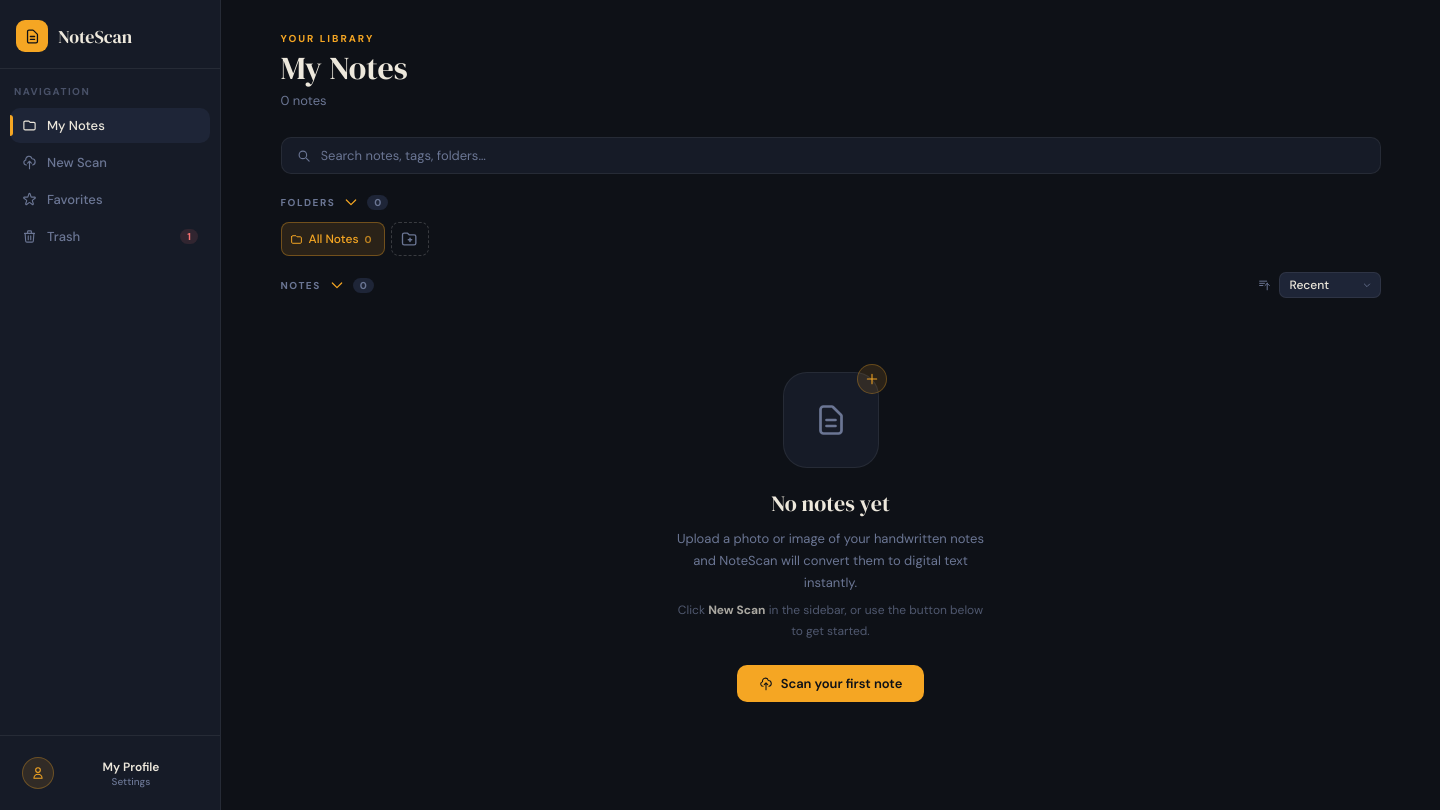
Test: Dashboard Integration › Trash ↔ Notes › restoring a note removes it from Trash and returns it to Notes
Click the button "Trash 1" at (110,236), box x1=10 y1=219 x2=210 y2=254
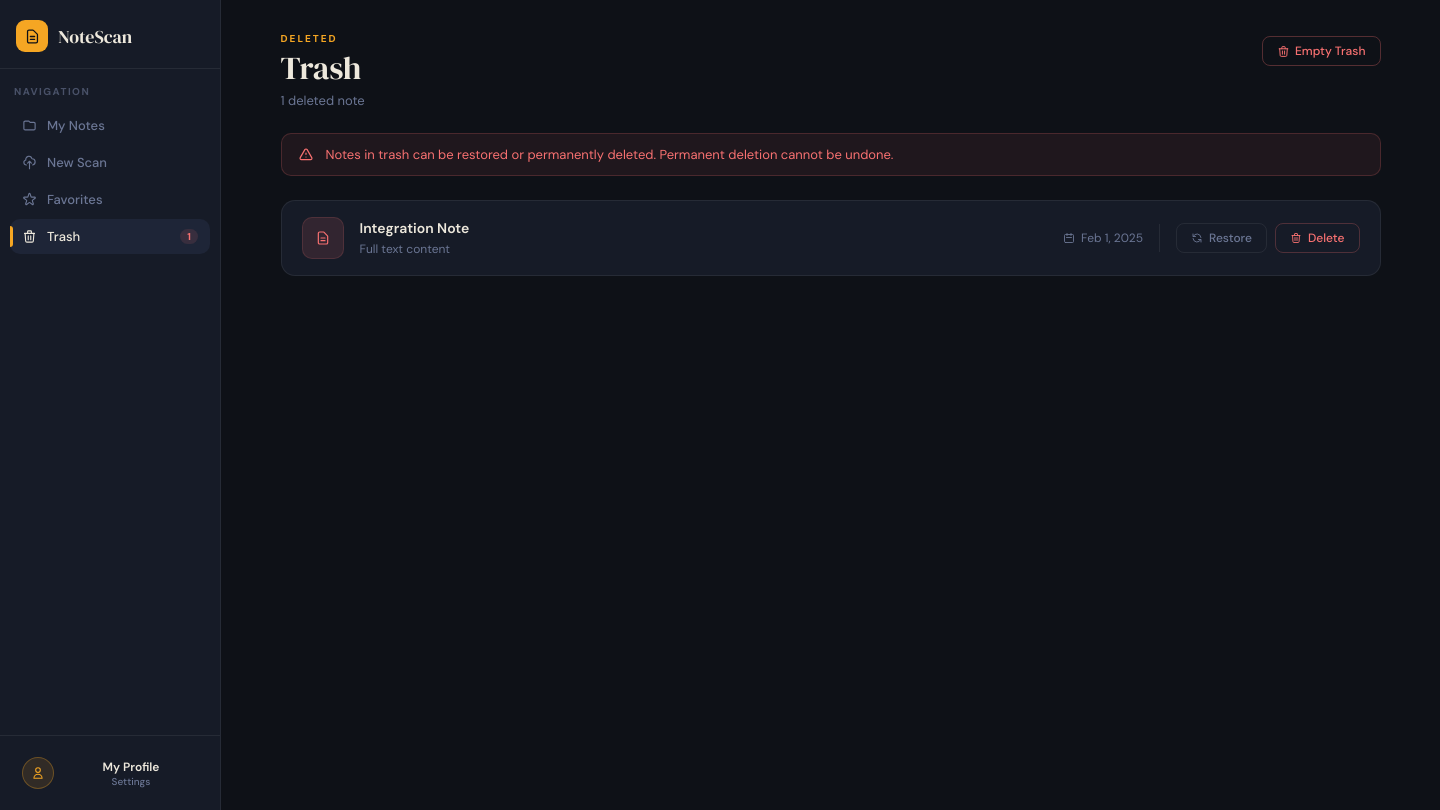
expect the text "Integration Note" is shown: met, box x1=360 y1=219 x2=469 y2=237
Click the button "Restore" at (1222,238), box x1=1176 y1=223 x2=1267 y2=253
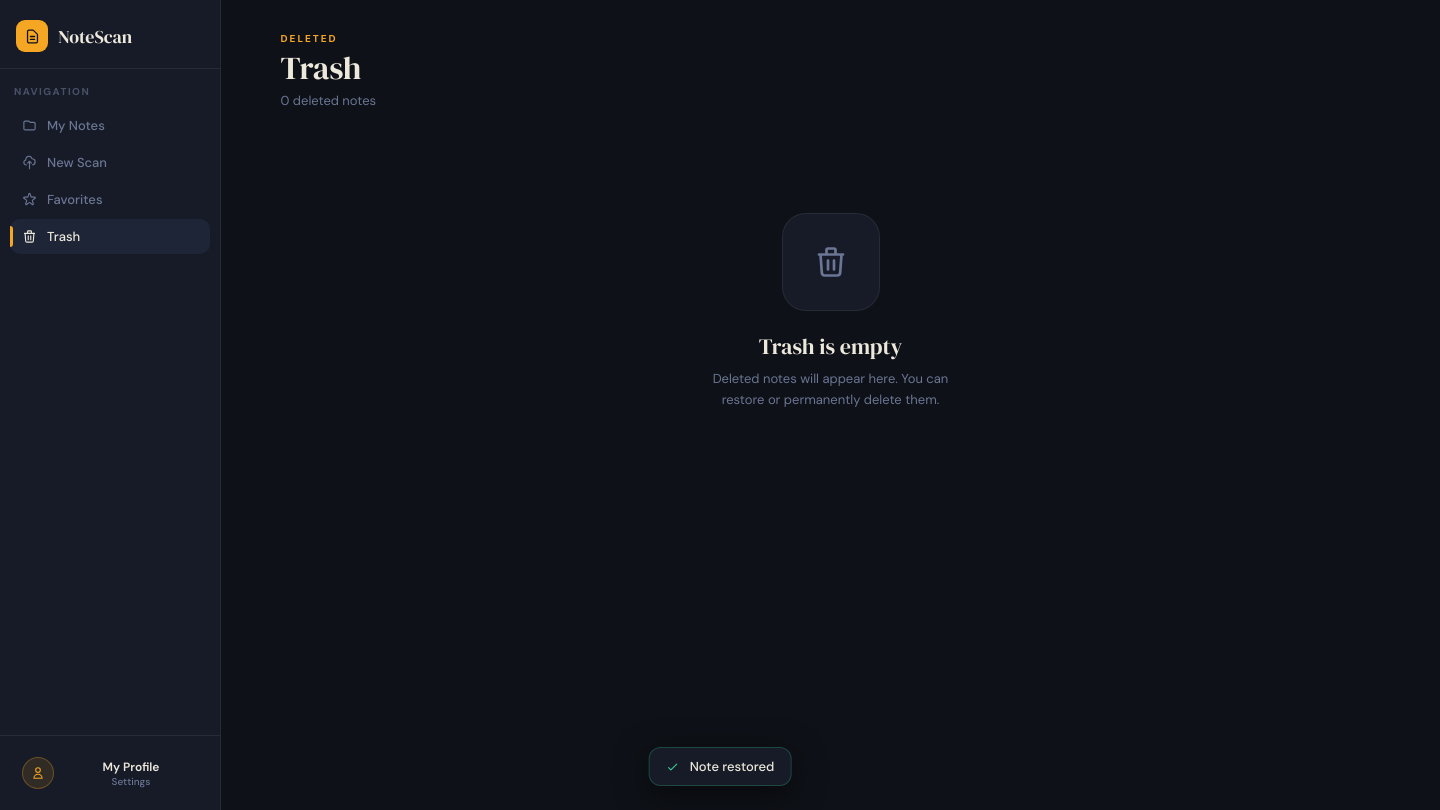
expect the text "Integration Note" is gone: met
Click the button "My Notes" at (110,126), box x1=10 y1=108 x2=210 y2=143
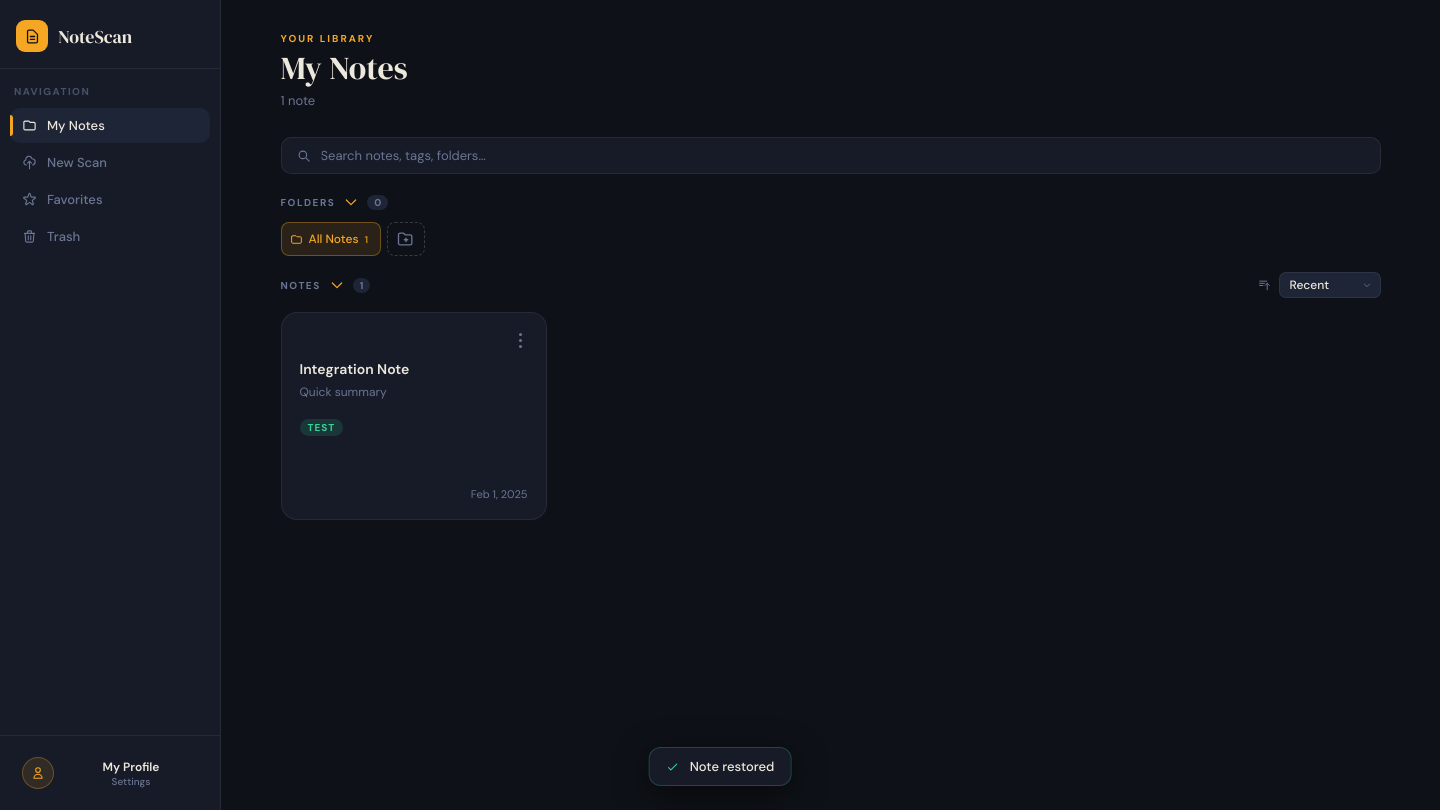
expect the text "Integration Note" is shown: met, box x1=300 y1=360 x2=409 y2=378
